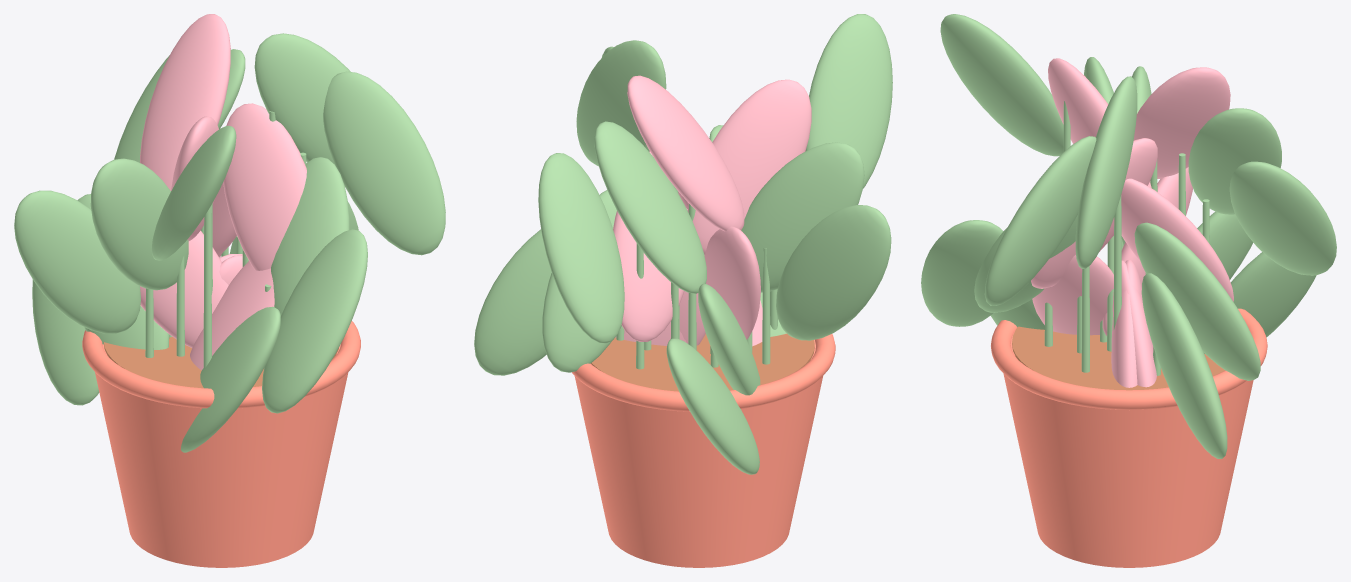
Rendered from rose_agave.glb.
3 renders of one model, left to right at view 1: azimuth 30°, elevation 25°; view 2: azimuth 150°, elevation 25°; view 3: azimuth 270°, elevation 25°, orthographic.
Parts seen in each view (by area): view 1: rose_agave; view 2: rose_agave; view 3: rose_agave.
Part boxes in pixels (x1,y1,x2,y2): rose_agave: (14,14,445,567); rose_agave: (474,14,892,567); rose_agave: (921,14,1336,567).
Size of the model in its own units: 0.5175 by 0.6209 by 0.4896.
